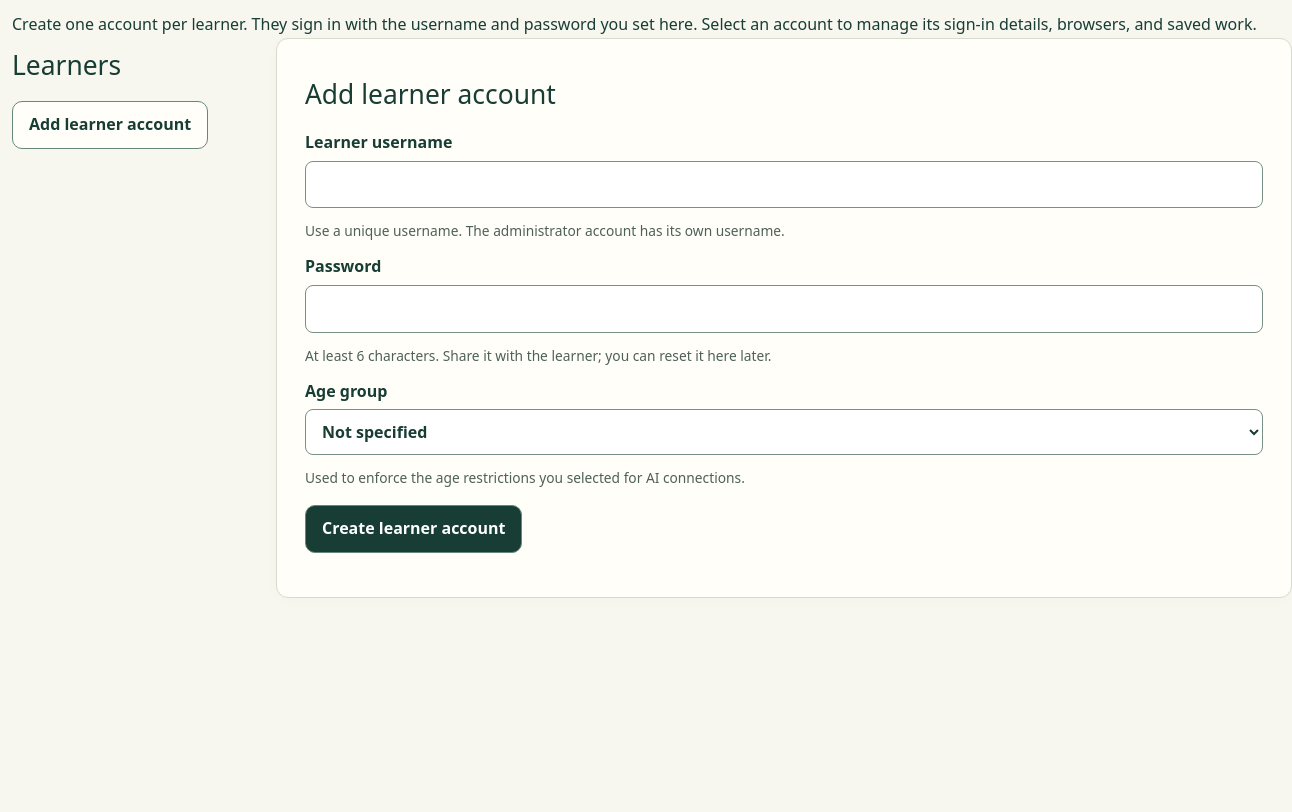
Test case: learner accounts › keeps the entered username when the server rejects a duplicate
This screenshot has width=1292, height=812.
Type "Orbit" into the field labelled "Learner username".
click(784, 185); type("Orbit")  # box [305,161,1263,208]
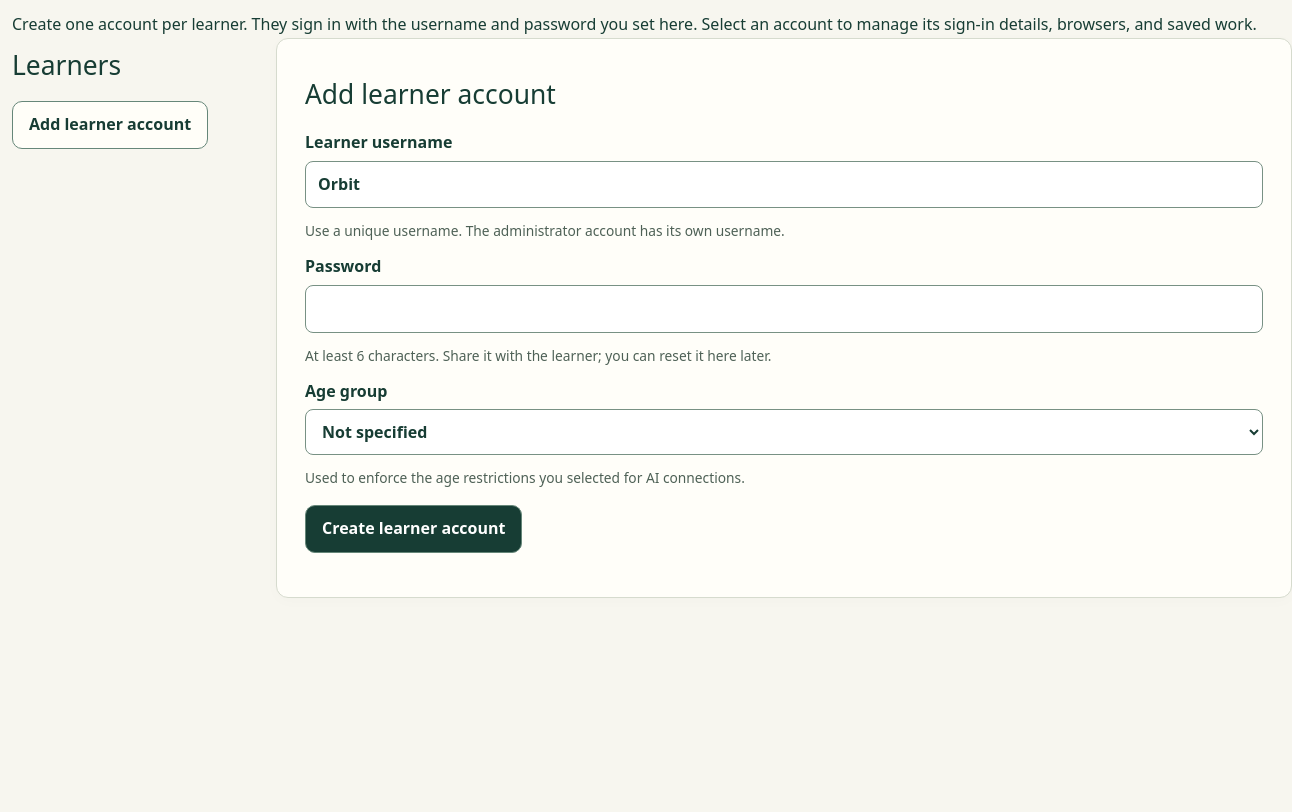
Type "synthetic-password-only" into the password field labelled "Password".
click(784, 309); type("synthetic-password-only")  # box [305,285,1263,333]
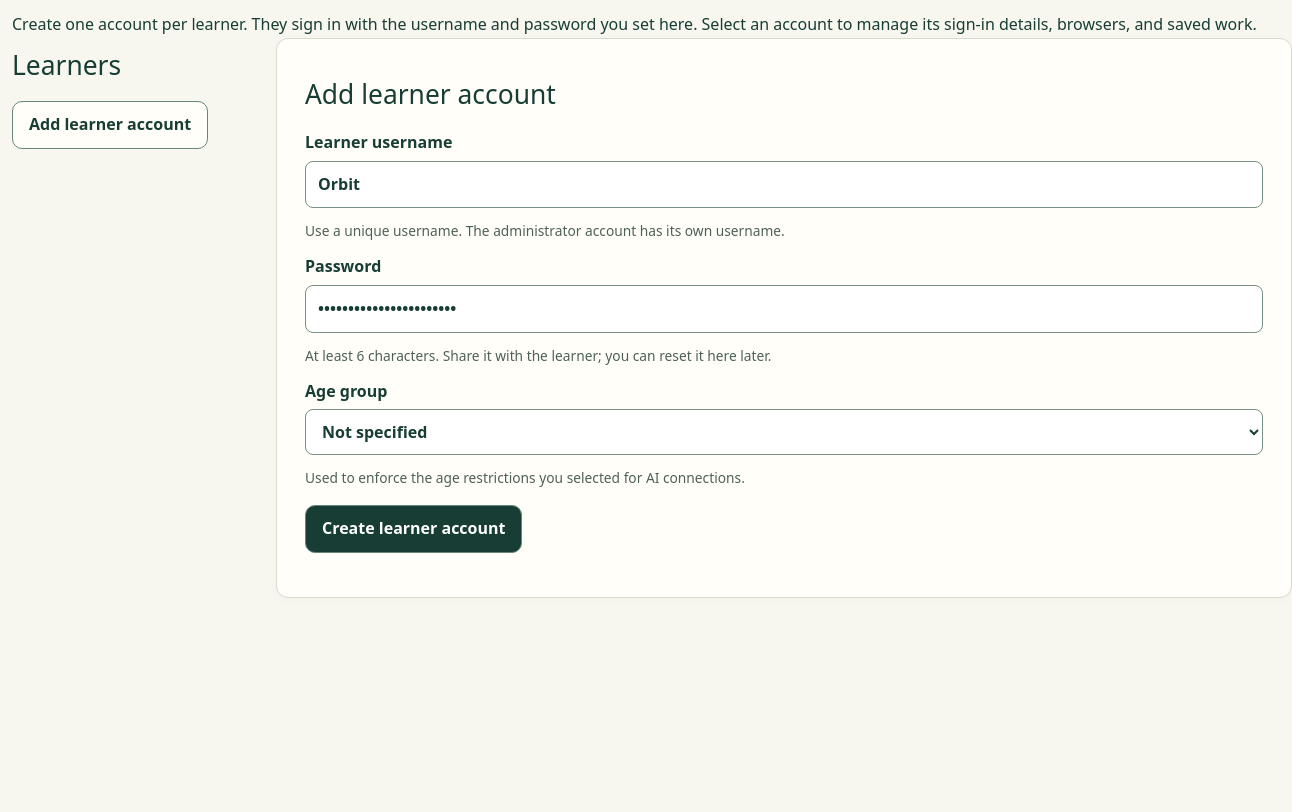
Click the button "Create learner account".
click(414, 529)  # box [305,505,522,553]
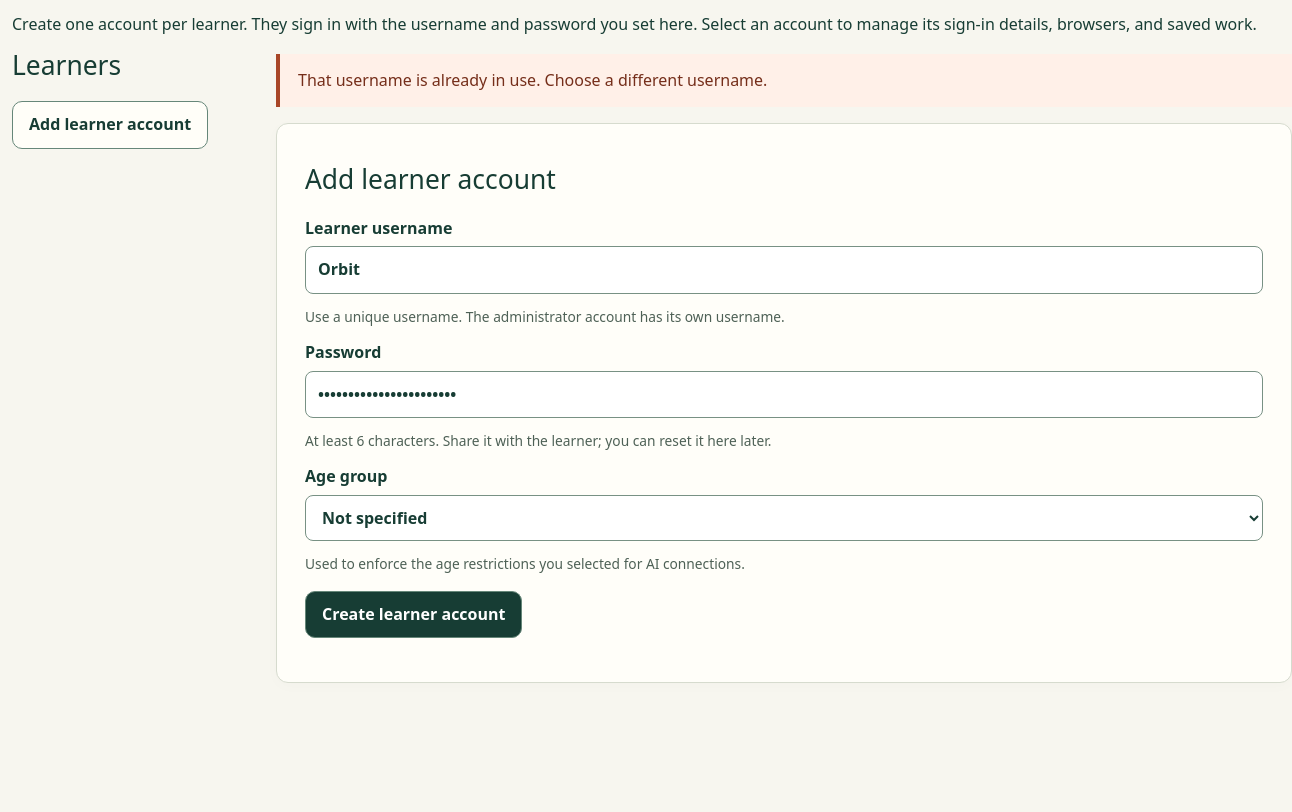
Expected: the message shows "already in use", [298,69,767,91]
